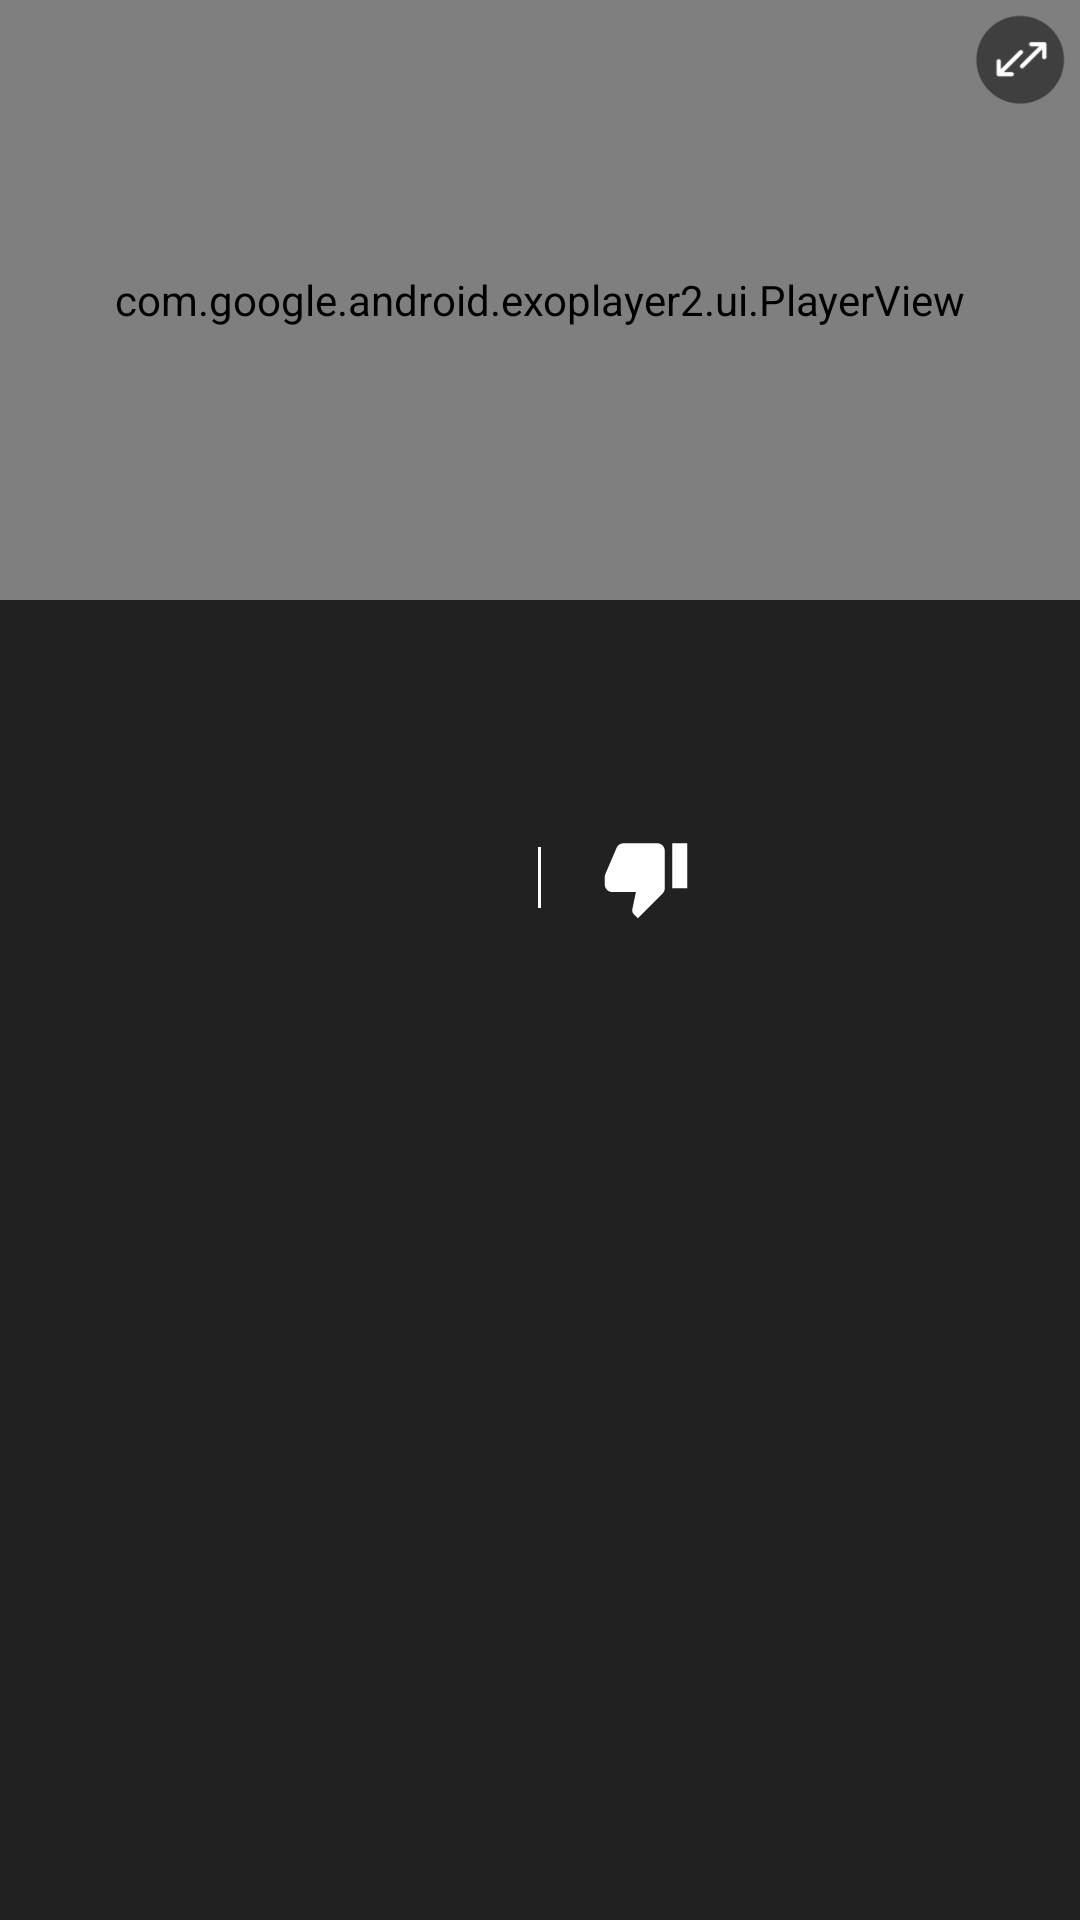

Where icons sit on this 1080*1920 app screen, as [left=x1, top=y1, right=x2, bottom=y2]:
video full screen: [left=976, top=16, right=1064, bottom=104]
